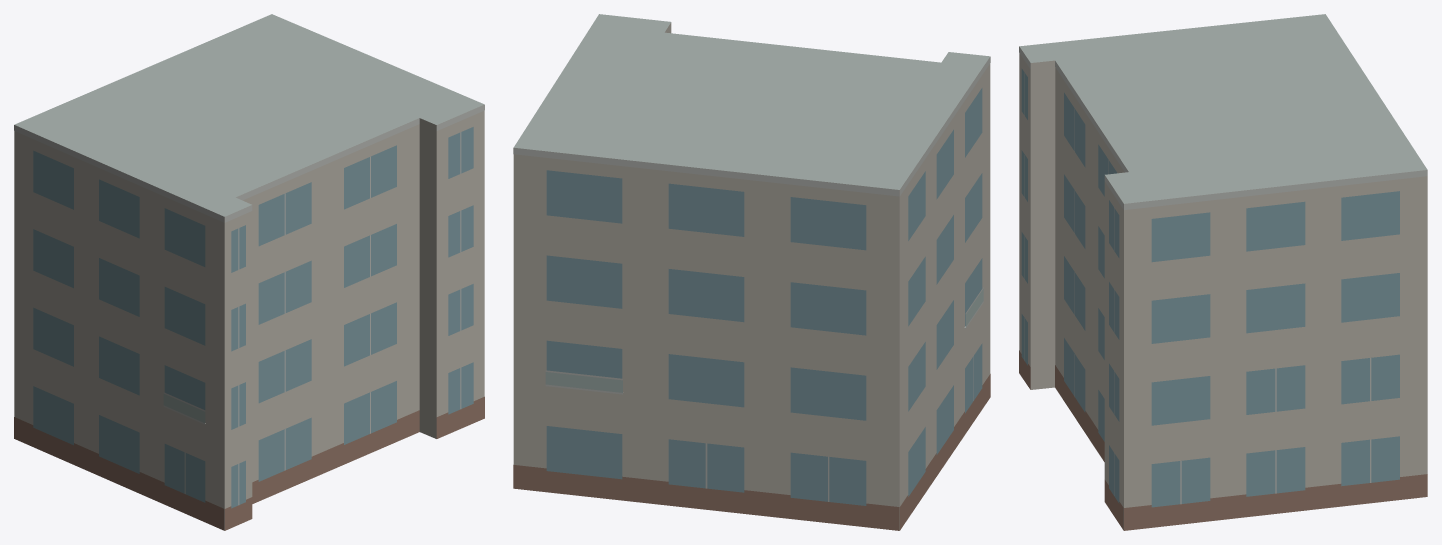
File: survey-upis-32911662.glb
The picture shows the model from 3 angles, left to right: view 1: azimuth 30°, elevation 25°; view 2: azimuth 150°, elevation 25°; view 3: azimuth 270°, elevation 25°; orthographic projection. The views are drawn at different scales.
Parts seen in each view (by area): view 1: survey-upis-32911662.tmp; view 2: survey-upis-32911662.tmp; view 3: survey-upis-32911662.tmp.
Boxes of the visible parts, <box> form: survey-upis-32911662.tmp: <box>14,14,484,530</box>; survey-upis-32911662.tmp: <box>513,14,990,530</box>; survey-upis-32911662.tmp: <box>1019,14,1427,530</box>.
Bounding box in the file's own units: 15.83 × 12.7 × 14.39.
